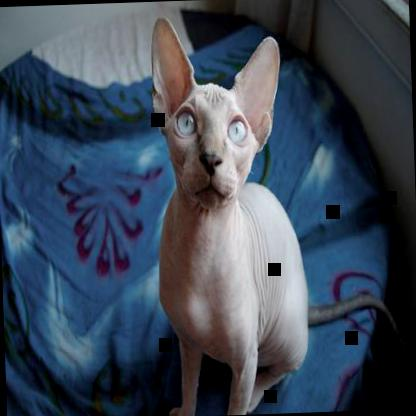cat: (146, 6, 415, 415)
